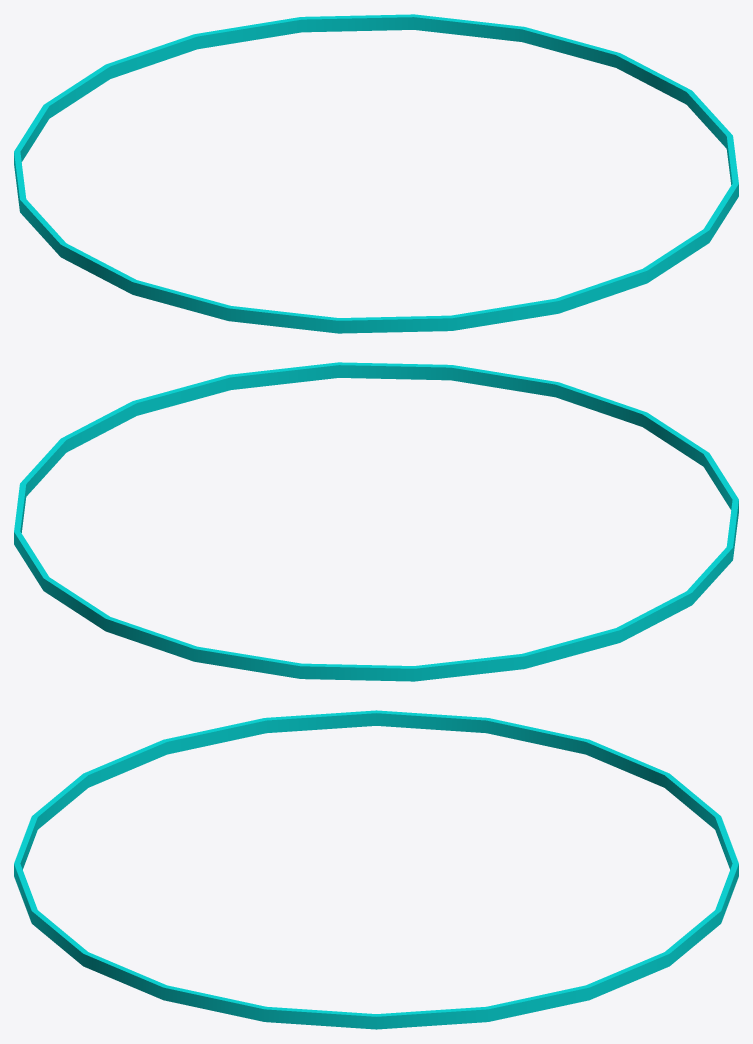
Rendered from EmissiveCyl.fbx.
3 renders of one model, top to bottom at view 1: azimuth 30°, elevation 25°; view 2: azimuth 150°, elevation 25°; view 3: azimuth 270°, elevation 25°, orthographic.
Parts seen in each view (by area): view 1: EmissiveCyl; view 2: EmissiveCyl; view 3: EmissiveCyl.
Part boxes in pixels (bbox=[...]): EmissiveCyl: bbox=[14, 14, 738, 333]; EmissiveCyl: bbox=[14, 362, 738, 681]; EmissiveCyl: bbox=[14, 710, 738, 1029].
Bounding box in the file's own units: 2223 × 42.99 × 2223.
